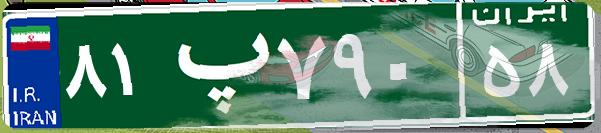0: (385, 28, 445, 110)
1: (110, 28, 158, 105)
5: (475, 38, 525, 113)
7: (273, 28, 330, 110)
8: (57, 26, 110, 107), (525, 38, 570, 115)
9: (330, 28, 385, 110)
پ: (158, 15, 273, 115)
